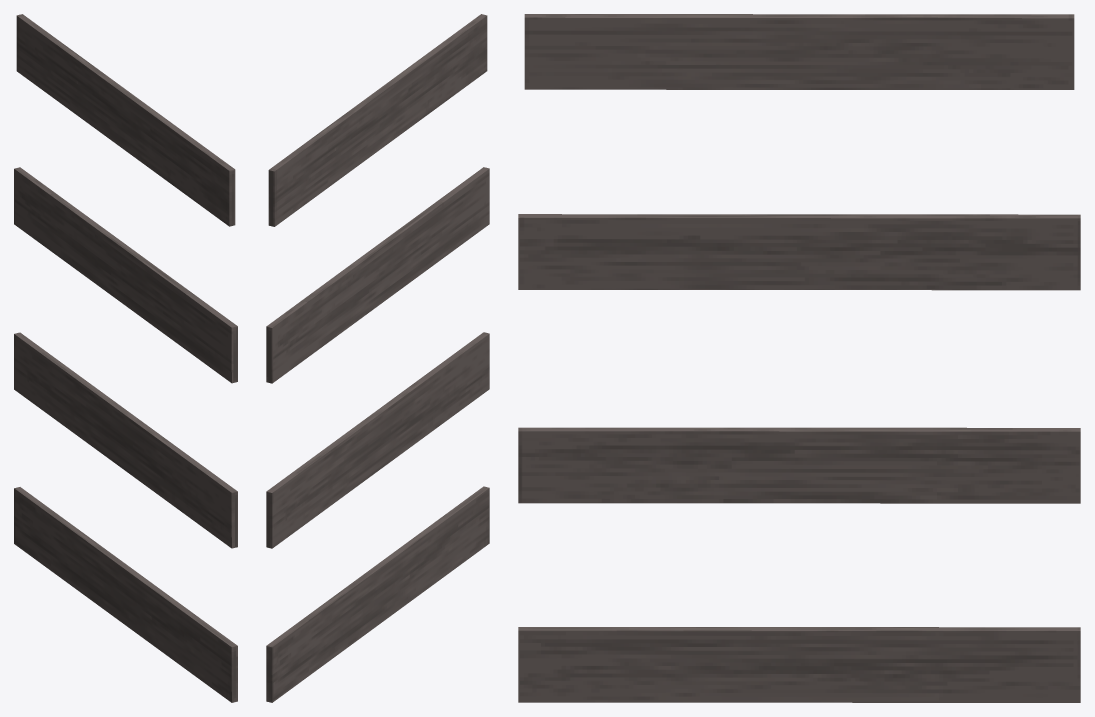
The model's file is s_planks.fbx.
3 renders of one model, left to right at view 1: azimuth 30°, elevation 25°; view 2: azimuth 150°, elevation 25°; view 3: azimuth 270°, elevation 25°, orthographic. The views are drawn at different scales.
Parts seen in each view (by area): view 1: s_plank3, s_plank4, s_plank2, s_plank1; view 2: s_plank4, s_plank3, s_plank2, s_plank1; view 3: s_plank3, s_plank2, s_plank4, s_plank1.
Boxes of the visible parts, x1,y1,x2,y2 form: s_plank3: [14, 332, 237, 548]; s_plank4: [14, 487, 237, 702]; s_plank2: [14, 167, 237, 383]; s_plank1: [16, 14, 235, 226]; s_plank4: [266, 486, 489, 702]; s_plank3: [266, 332, 489, 548]; s_plank2: [266, 167, 489, 383]; s_plank1: [268, 14, 487, 226]; s_plank3: [518, 427, 1080, 503]; s_plank2: [518, 214, 1080, 290]; s_plank4: [518, 627, 1080, 702]; s_plank1: [524, 14, 1074, 89].
Size of the model in its own units: 0.0334 by 2.81 by 2.09.
